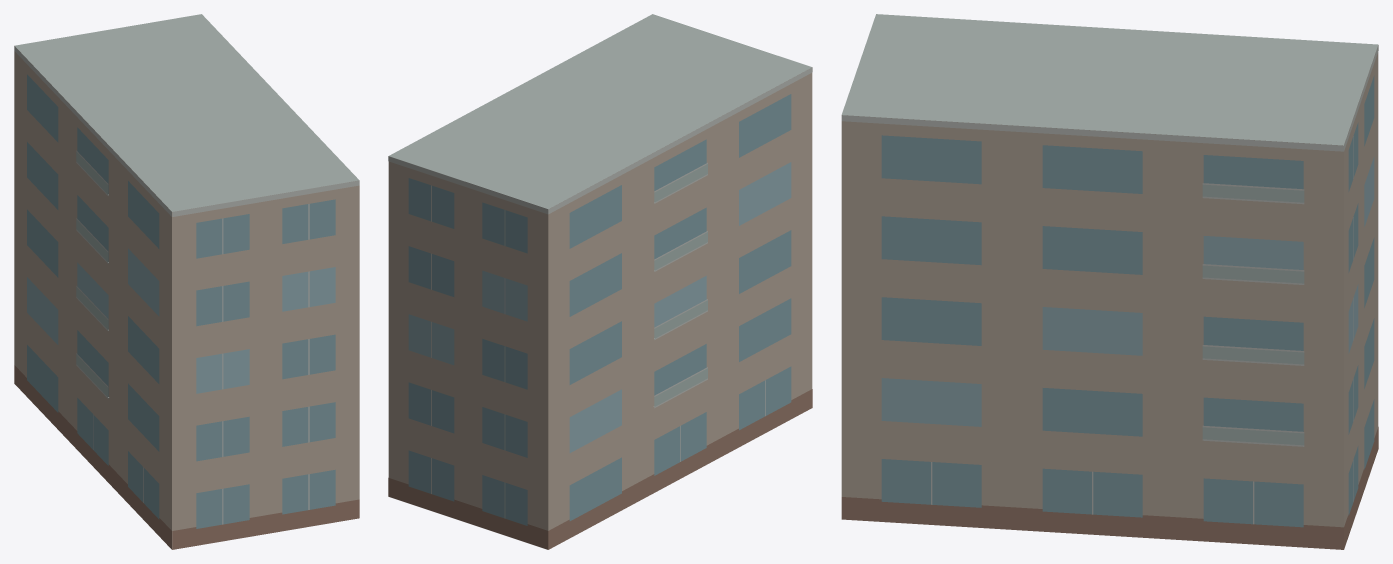
Rendered from survey-upis-32634383.glb.
3 renders of one model, left to right at view 1: azimuth 30°, elevation 25°; view 2: azimuth 150°, elevation 25°; view 3: azimuth 270°, elevation 25°, orthographic. The views are drawn at different scales.
Parts seen in each view (by area): view 1: survey-upis-32634383.tmp; view 2: survey-upis-32634383.tmp; view 3: survey-upis-32634383.tmp.
Part boxes in pixels (left/top/right/bottom): survey-upis-32634383.tmp: left=14, top=14, right=359, bottom=549; survey-upis-32634383.tmp: left=388, top=14, right=812, bottom=549; survey-upis-32634383.tmp: left=841, top=14, right=1378, bottom=549.
Bounding box in the file's own units: 11.14 × 15.96 × 19.22.
